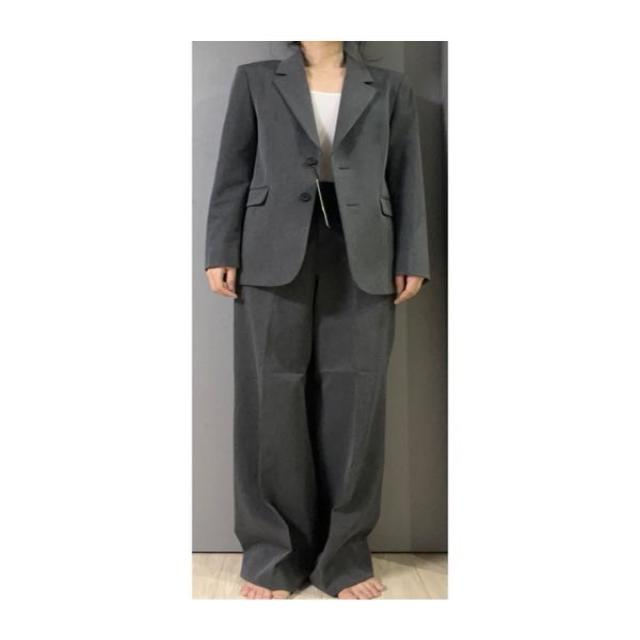blazer: (204, 57, 431, 280)
slacks: (231, 184, 396, 596)
